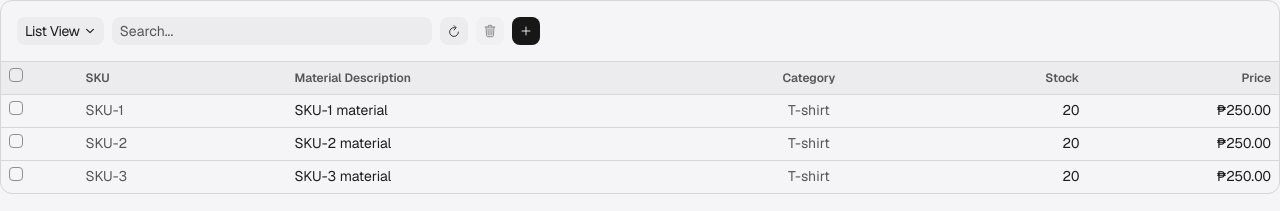
Test case: InventoryTable — ticking rows › collapses the whole header to the "# item(s) selected" message when a row is ticked
Click the checkbox named "Select SKU-2". click: (16, 141)
box: [9, 134, 23, 148]
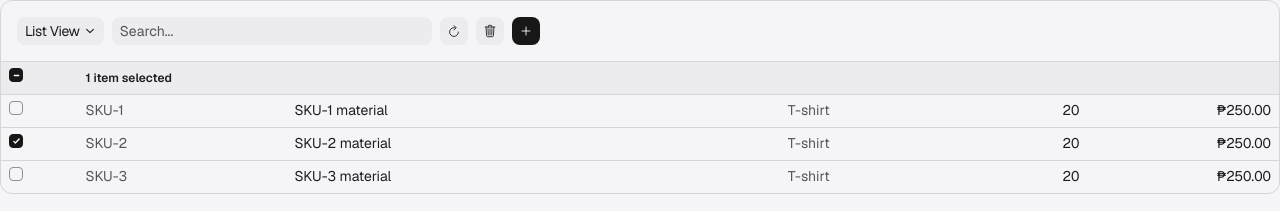
Expected: the column heading "1 item selected" is shown, [78, 62, 1279, 94]
Expected: the button named "delete" is enabled, [476, 17, 504, 45]
